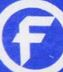Fisher: (11, 14, 55, 68)
